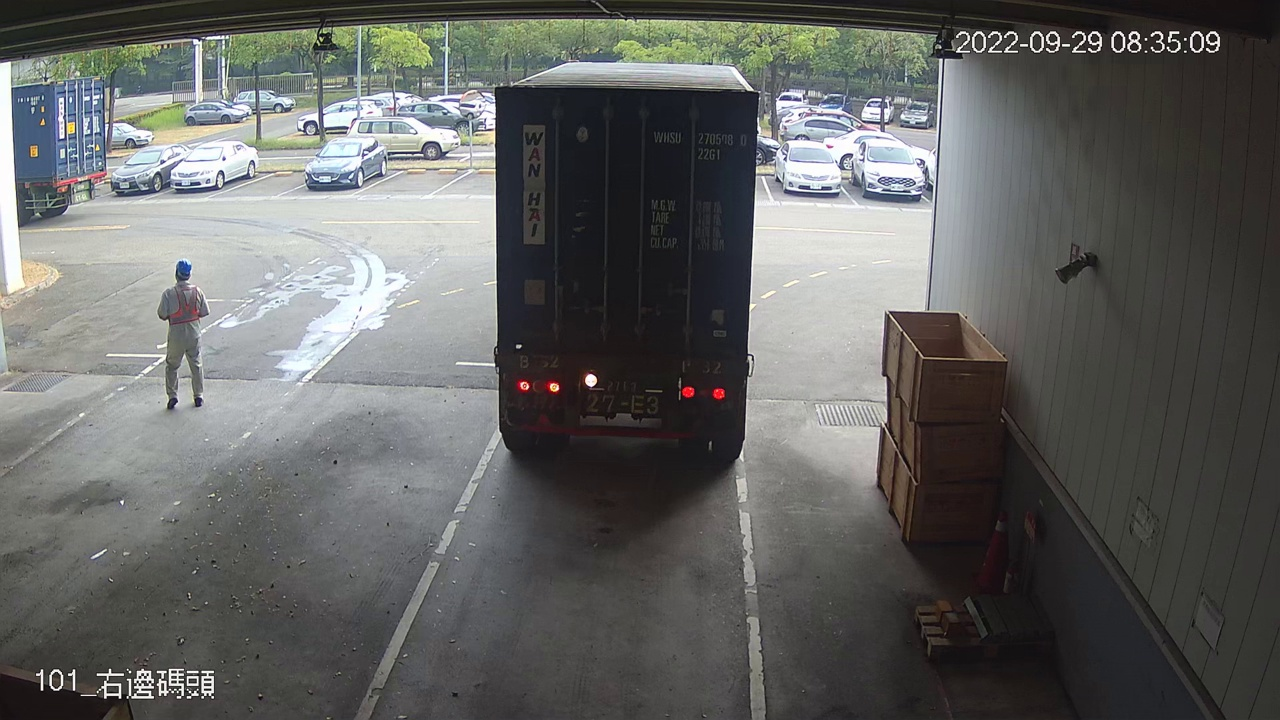container: (646, 122, 752, 166)
